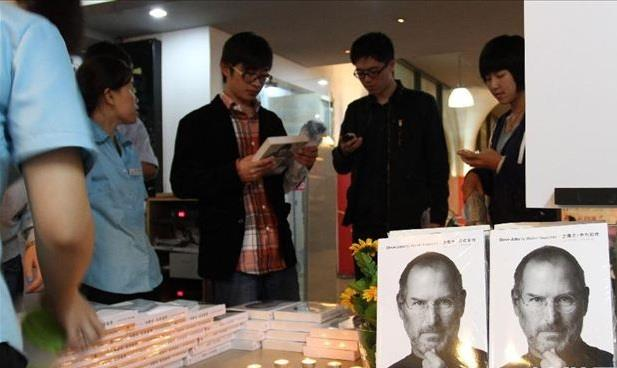Steven_Jobs: (383, 250, 483, 363)
